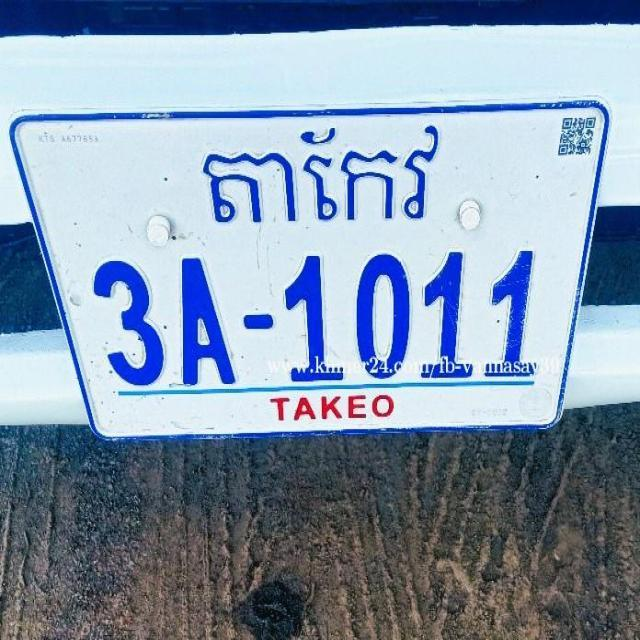Takeo: (199, 124, 438, 230)
